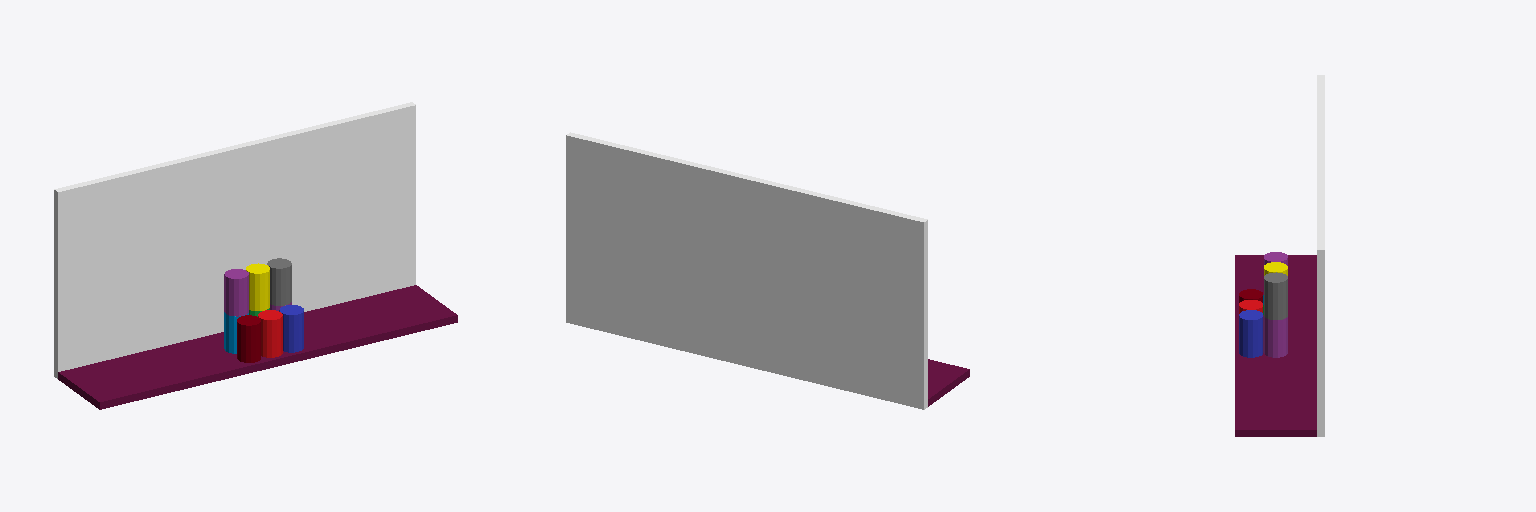
File: cans-shelf-4.obj
The picture shows the model from 3 angles: view 1: azimuth 30°, elevation 25°; view 2: azimuth 150°, elevation 25°; view 3: azimuth 270°, elevation 25°; orthographic projection.
Visible parts, largest first — view 1: Object.2, Object.1, Object.11, Object.8, Object.7, Object.9, Object.6, Object.10; view 2: Object.2, Object.1; view 3: Object.1, Object.2, Object.6, Object.9, Object.3.
Part boxes in pixels (bbox=[...]): Object.2: bbox=[54, 102, 415, 378]; Object.1: bbox=[58, 285, 457, 409]; Object.11: bbox=[224, 269, 248, 316]; Object.8: bbox=[237, 315, 260, 362]; Object.7: bbox=[258, 310, 282, 357]; Object.9: bbox=[267, 258, 291, 305]; Object.6: bbox=[279, 305, 303, 352]; Object.10: bbox=[246, 263, 269, 310]; Object.2: bbox=[566, 132, 927, 409]; Object.1: bbox=[928, 359, 969, 406]; Object.1: bbox=[1235, 255, 1316, 436]; Object.2: bbox=[1317, 75, 1324, 436]; Object.6: bbox=[1239, 310, 1262, 357]; Object.9: bbox=[1264, 272, 1287, 319]; Object.3: bbox=[1263, 315, 1287, 357].
Size of the model in its own units: 1000 by 500 by 220.